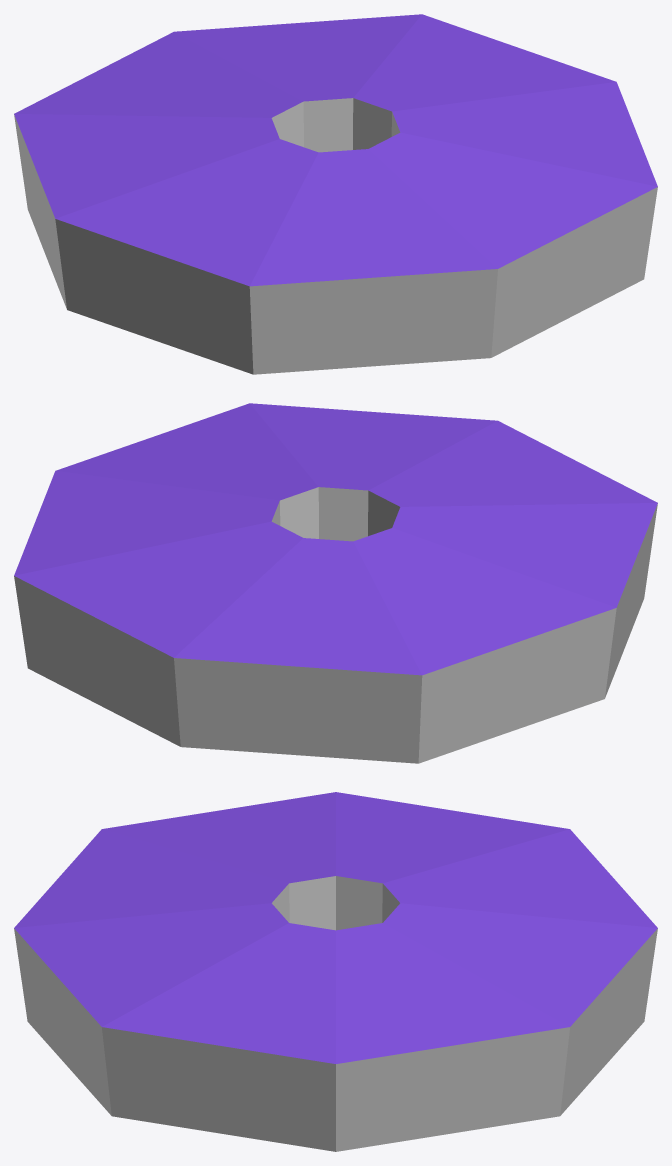
Rendered from Body3.glb.
3 renders of one model, top to bottom at view 1: azimuth 30°, elevation 25°; view 2: azimuth 150°, elevation 25°; view 3: azimuth 270°, elevation 25°, orthographic.
Parts seen in each view (by area): view 1: Body3.001; view 2: Body3.001; view 3: Body3.001.
Boxes of the visible parts, x1,y1,x2,y2 form: Body3.001: (14,14,657,374); Body3.001: (14,403,657,763); Body3.001: (14,792,657,1151).
Bounding box in the file's own units: 3.06 × 0.6305 × 3.06.
